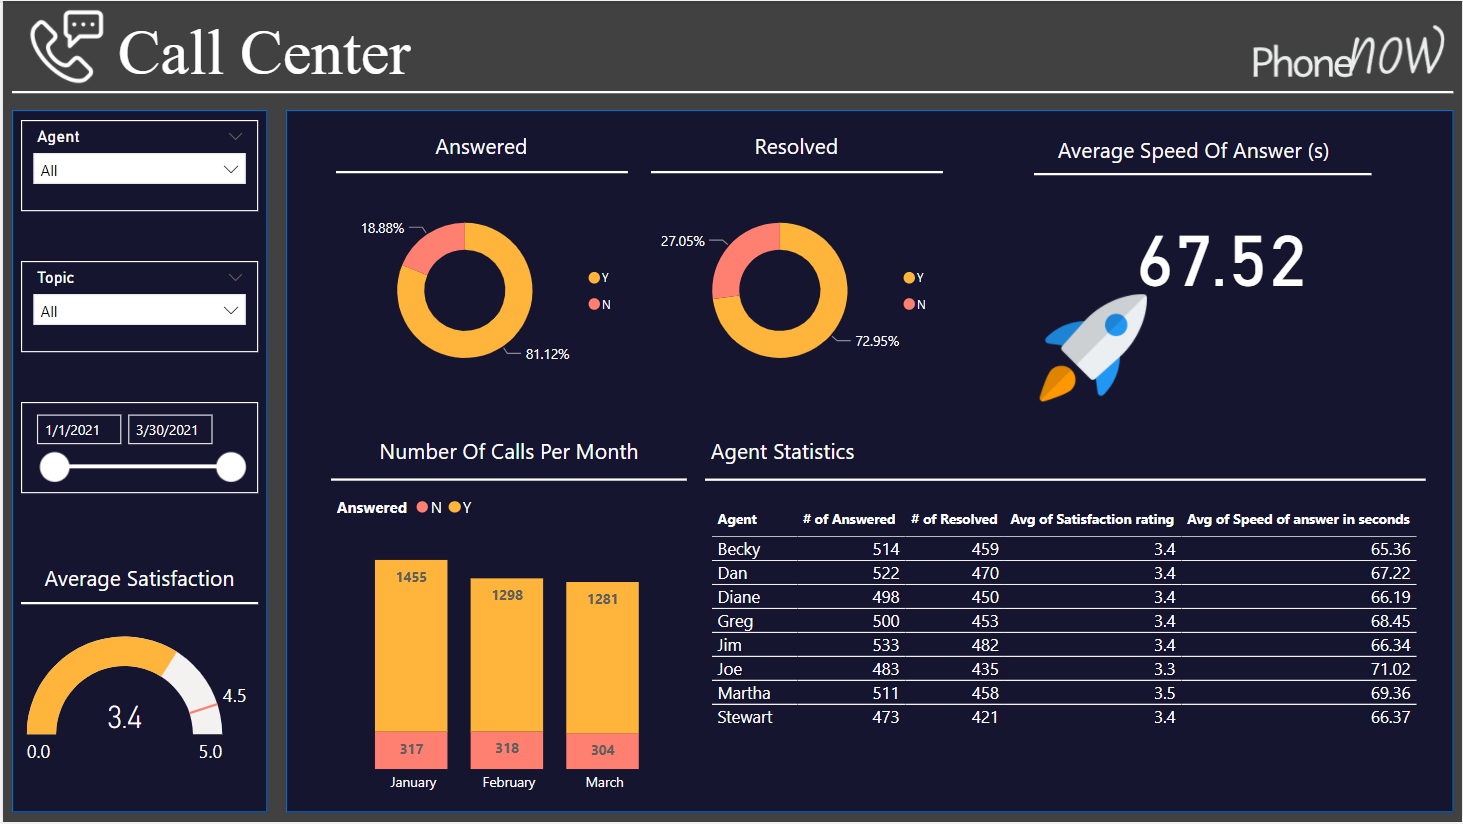

The page's visual inventory and layout, read from the dashboard file:
{"tool":"powerbi","page":{"name":"Overview","canvas":[1280,720],"ordinal":0},"visuals":[{"type":"shape","box":[248,96,1024,616],"z":0},{"type":"shape","box":[8,96,224,616],"z":1000},{"type":"shape","box":[8,72,1264,16],"z":2000},{"type":"image","box":[1088,0,184,88],"z":3000},{"type":"textbox","box":[96,8,280,80],"z":4000},{"type":"image","box":[8,0,96,80],"z":5000},{"type":"slicer","fields":{"Values":["Call Centre.Agent"]},"box":[16,104,208,80],"z":6000},{"type":"slicer","fields":{"Values":["Call Centre.Topic"]},"box":[16,228,208,80],"z":7000},{"type":"slicer","fields":{"Values":["Call Centre.Date"]},"box":[16,352,208,80],"z":8000},{"type":"shape","box":[16,519.9,208,16],"z":9000},{"type":"textbox","box":[24,487.9,192,40],"z":10000},{"type":"gauge","fields":{"Y":["Call Centre.Satisfaction rating"],"TargetValue":["Measures (2).Target Value Satisfaction"],"MaxValue":["Sum(Call Centre.Satisfaction rating)1"]},"box":[16,544,208,144],"z":11000},{"type":"donutChart","fields":{"Y":["Call Centre.Resolved"],"Category":["Call Centre.Resolved"]},"box":[568.1,166,256,176],"z":12000},{"type":"shape","box":[568.1,142,256,16],"z":13000},{"type":"textbox","box":[600.1,108.9,192,40],"z":14000},{"type":"card","fields":{"Values":["Call Centre.Speed of answer in seconds"]},"box":[960,160,216,120],"z":15000},{"type":"textbox","box":[904,112,280,40],"z":16000},{"type":"shape","box":[904,144,296,16],"z":17000},{"type":"image","box":[904,248,104,112],"z":18000},{"type":"textbox","box":[323.9,108.9,192,40],"z":19000},{"type":"shape","box":[291.9,142,256,16],"z":20000},{"type":"donutChart","fields":{"Y":["Call Centre.Answered (Y/N)"],"Category":["Call Centre.Answered (Y/N)"]},"box":[291.9,166,256,176],"z":21000},{"type":"shape","box":[288,416,312,8],"z":22000},{"type":"textbox","box":[288,376,312,40],"z":23000},{"type":"columnChart","fields":{"Series":["Call Centre.Answered (Y/N)"],"Category":["Call Centre.Date.Variation.Date Hierarchy.Month"],"Y":["Call Centre.Call Id"]},"box":[288,424,312,280],"z":24000},{"type":"textbox","box":[616,376,320,40],"z":25000},{"type":"shape","box":[616,408,632,24],"z":26000},{"type":"tableEx","fields":{"Values":["Call Centre.Agent","Measures (2).# of Answered","Measures (2).# of Resolved","Call Centre.Satisfaction rating","Call Centre.Speed of answer in seconds"]},"box":[616,440,632,232],"z":27000}]}

Visuals, with their boxes in screenshot pixels (x1, y1, x2, y2), scaled from the page's 1280x720 canvas onto the 1463x824 screenshot:
shape: rect(283, 110, 1454, 815)
shape: rect(9, 110, 265, 815)
shape: rect(9, 82, 1454, 101)
image: rect(1244, 0, 1454, 101)
textbox: rect(110, 9, 430, 101)
image: rect(9, 0, 119, 92)
slicer - Call Centre.Agent: rect(18, 119, 256, 211)
slicer - Call Centre.Topic: rect(18, 261, 256, 352)
slicer - Call Centre.Date: rect(18, 403, 256, 494)
shape: rect(18, 595, 256, 613)
textbox: rect(27, 558, 247, 604)
gauge - Call Centre.Satisfaction rating x Measures (2).Target Value Satisfaction: rect(18, 623, 256, 787)
donutChart - Call Centre.Resolved x Call Centre.Resolved: rect(649, 190, 942, 391)
shape: rect(649, 163, 942, 181)
textbox: rect(686, 125, 905, 170)
card - Call Centre.Speed of answer in seconds: rect(1097, 183, 1344, 320)
textbox: rect(1033, 128, 1353, 174)
shape: rect(1033, 165, 1372, 183)
image: rect(1033, 284, 1152, 412)
textbox: rect(370, 125, 590, 170)
shape: rect(334, 163, 626, 181)
donutChart - Call Centre.Answered (Y/N) x Call Centre.Answered (Y/N): rect(334, 190, 626, 391)
shape: rect(329, 476, 686, 485)
textbox: rect(329, 430, 686, 476)
columnChart - Call Centre.Answered (Y/N) x Call Centre.Date.Variation.Date Hierarchy.Month: rect(329, 485, 686, 806)
textbox: rect(704, 430, 1070, 476)
shape: rect(704, 467, 1426, 494)
tableEx - Call Centre.Agent x Measures (2).# of Answered: rect(704, 504, 1426, 769)
